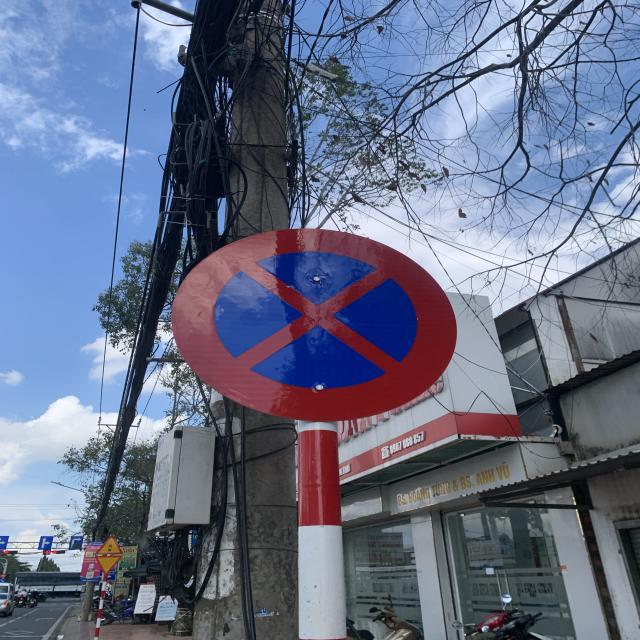Cam_Dung_Va_Dau_Xe: (173, 224, 462, 427)
